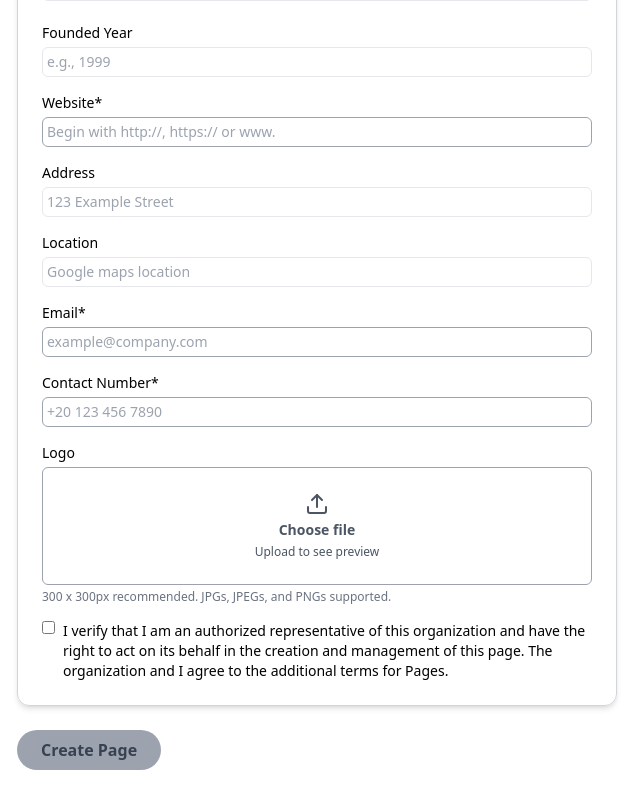
CreateCompanyPage › disables submit button when terms are not agreed
The image size is (635, 787).
(page scrolled)
Expected: the button "Create Page" is disabled, [17,730,161,770]
Click the checkbox with test id "agree-terms" at (48, 628), box [42,621,55,634]
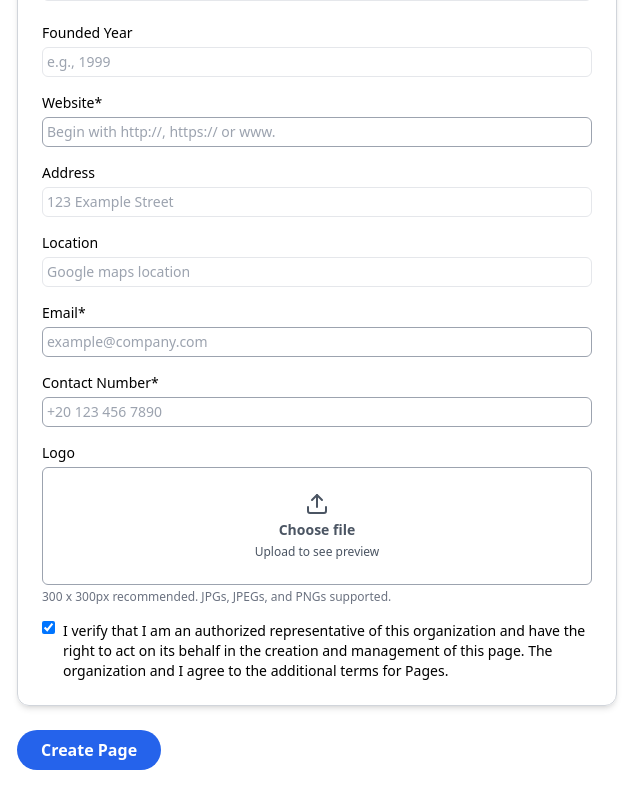
Expected: the button "Create Page" is enabled, [17,730,161,770]
